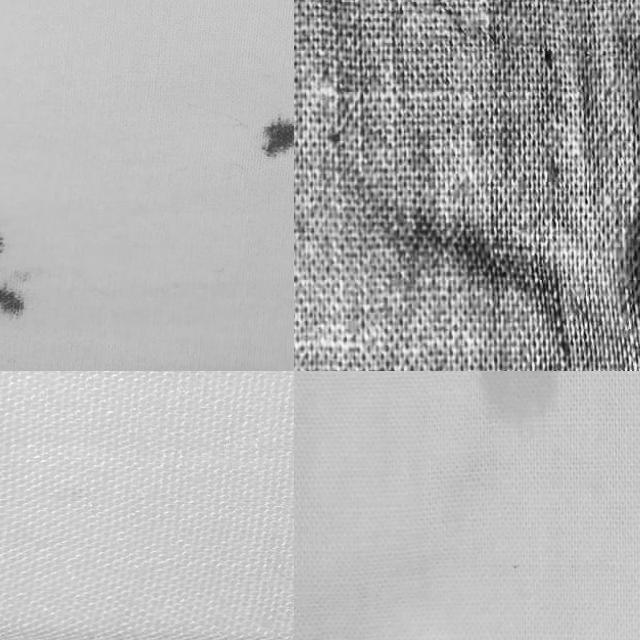Thread_other: (0, 152, 67, 351), (221, 88, 294, 182)
